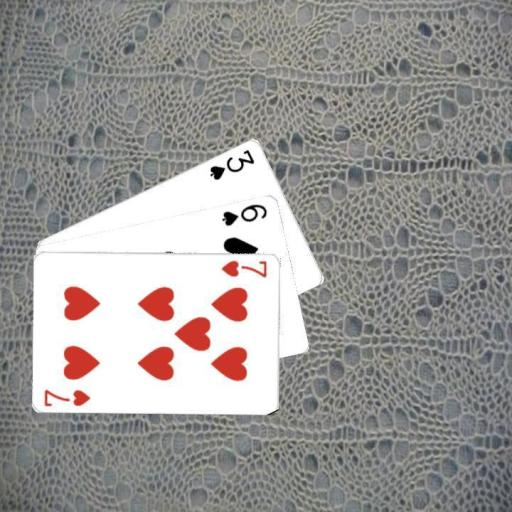card-corner: (206, 146, 256, 181), (218, 200, 269, 227), (218, 256, 269, 278), (41, 386, 92, 408)
